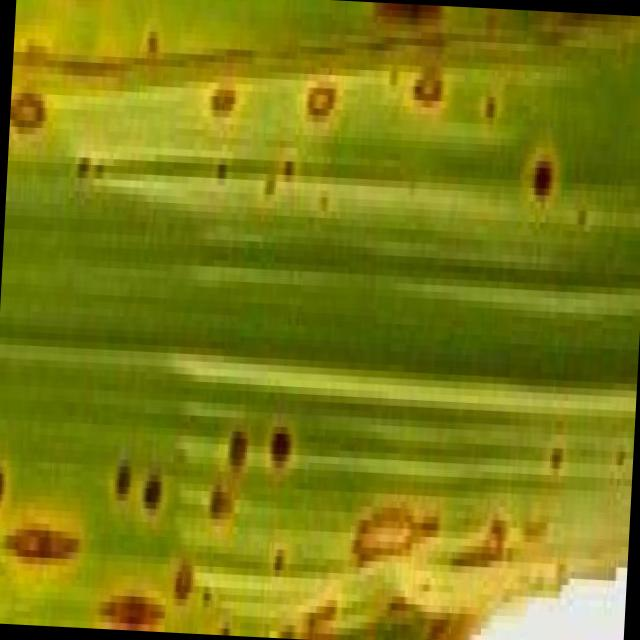Rice_Brownspot: (440, 470, 548, 584), (0, 487, 84, 614), (342, 458, 447, 558), (296, 46, 351, 131), (93, 568, 164, 626), (199, 48, 244, 138), (406, 24, 446, 122), (104, 418, 140, 522), (520, 120, 564, 203), (136, 426, 170, 516), (220, 398, 252, 487), (62, 136, 110, 193), (204, 463, 242, 528), (261, 412, 296, 476), (162, 537, 195, 593), (476, 69, 506, 125), (10, 85, 50, 122), (264, 528, 290, 584), (134, 3, 161, 52), (0, 439, 8, 549)
